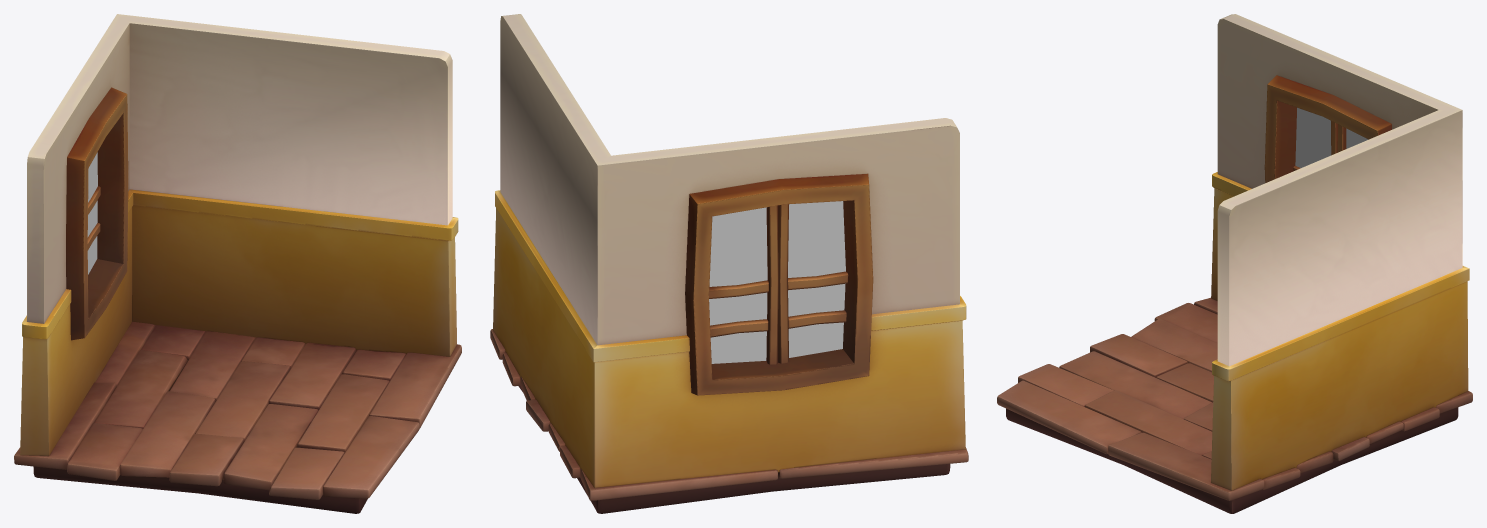
File: MDL_RoomLayout2.fbx
The picture shows the model from 3 angles, left to right: view 1: azimuth 30°, elevation 25°; view 2: azimuth 150°, elevation 25°; view 3: azimuth 270°, elevation 25°; orthographic projection. The views are drawn at different scales.
Parts seen in each view (by area): view 1: MDL_RoomLayout, MDL_RoomWindow; view 2: MDL_RoomLayout, MDL_RoomWindow; view 3: MDL_RoomLayout, MDL_RoomWindow.
Boxes of the visible parts, bbox=[...] form: MDL_RoomLayout: bbox=[14, 14, 461, 513]; MDL_RoomWindow: bbox=[87, 152, 97, 274]; MDL_RoomLayout: bbox=[490, 14, 968, 513]; MDL_RoomWindow: bbox=[709, 201, 845, 363]; MDL_RoomLayout: bbox=[997, 14, 1472, 513]; MDL_RoomWindow: bbox=[1295, 107, 1368, 167].
Size of the model in its own units: 624 by 438 by 609.
